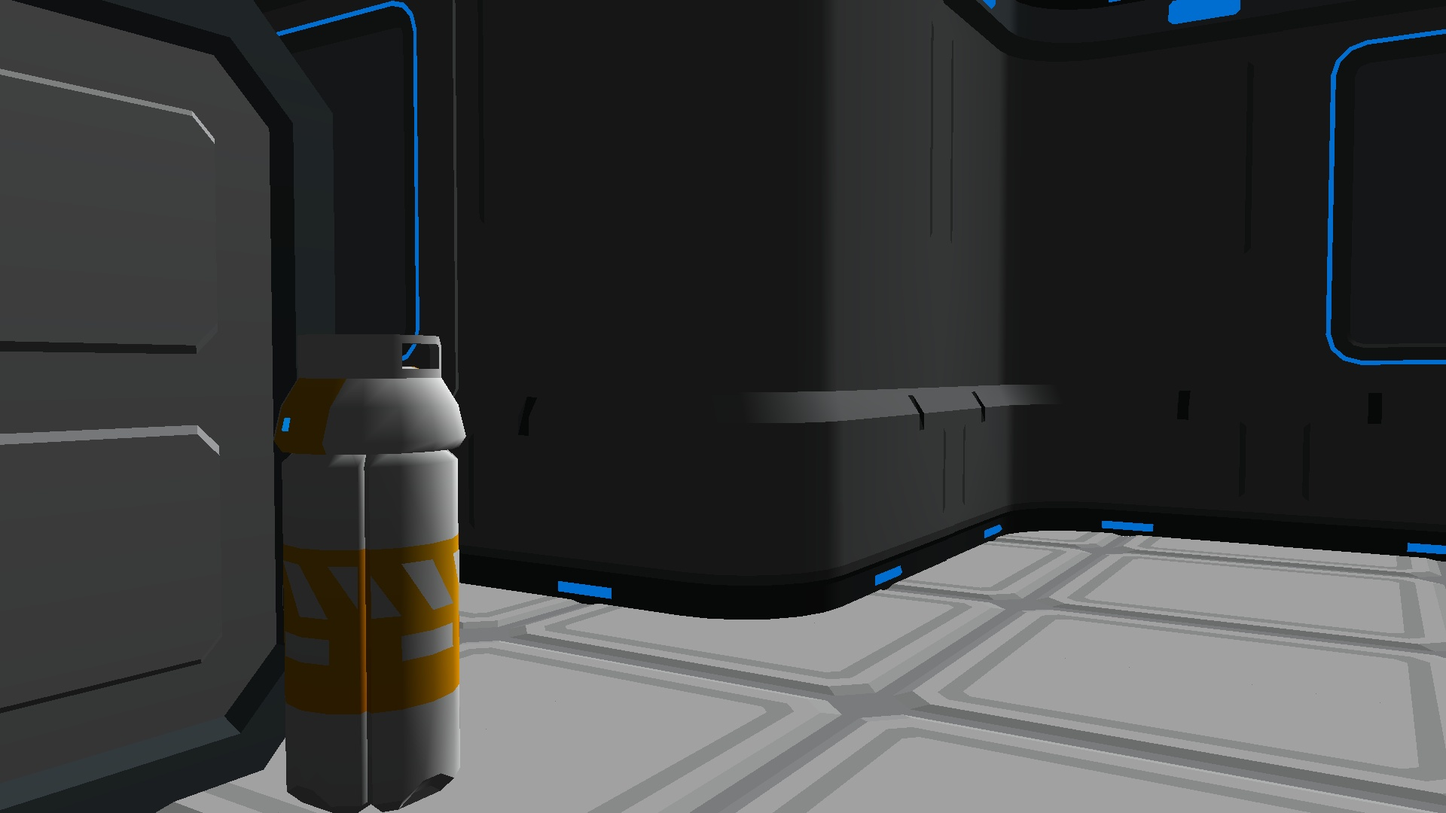yellow barrel: (273, 334, 467, 813)
